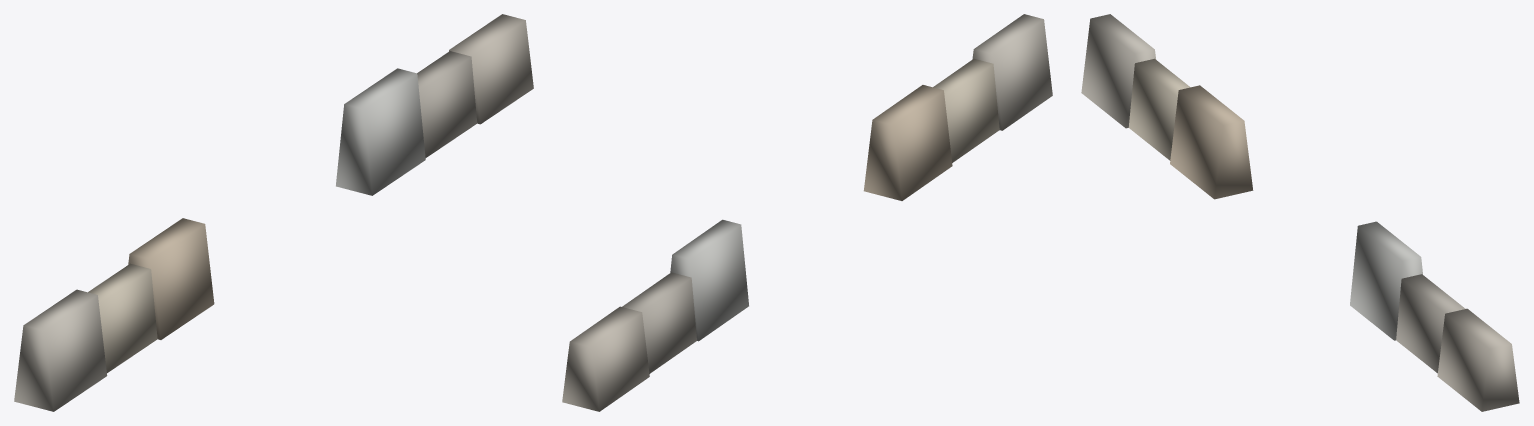
Rendered from farm_22_17_collision.glb.
The picture shows the model from 3 angles, left to right: view 1: azimuth 30°, elevation 25°; view 2: azimuth 210°, elevation 25°; view 3: azimuth 270°, elevation 25°; orthographic projection. The views are drawn at different scales.
Parts seen in each view (by area): view 1: geometry_0; view 2: geometry_0; view 3: geometry_0.
Boxes of the visible parts, x1=… form: geometry_0: x1=14, y1=14, x2=533, y2=411; geometry_0: x1=562, y1=14, x2=1052, y2=411; geometry_0: x1=1081, y1=14, x2=1519, y2=411.
Bounding box in the file's own units: 12.36 × 1.42 × 7.11.
